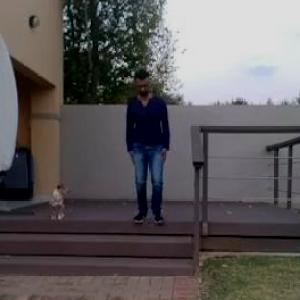follow: (133, 70, 173, 230)
